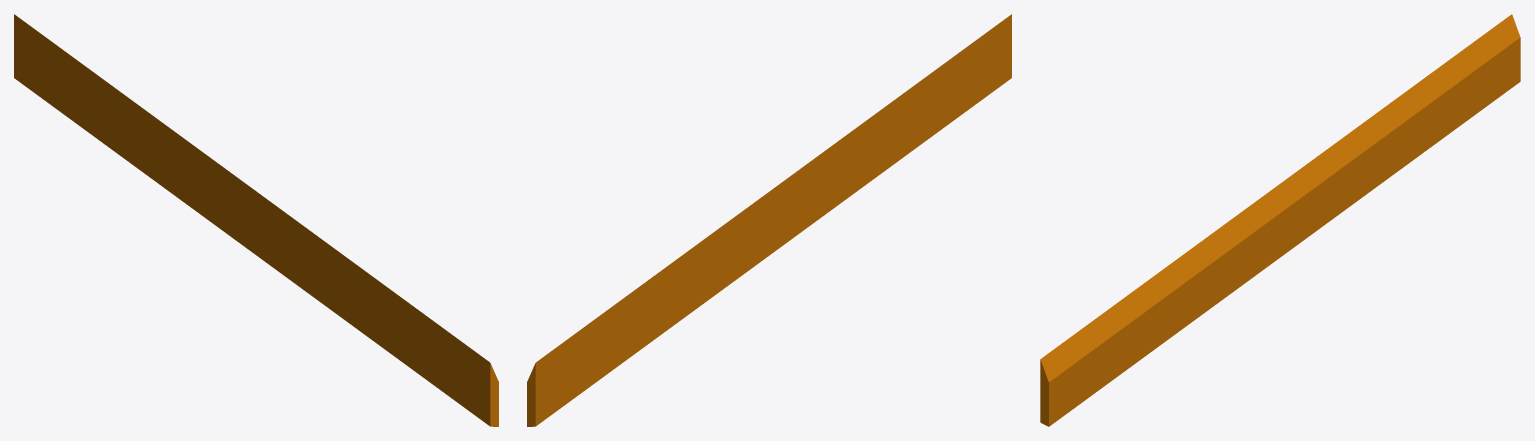
File: simple_example_hole_part_83.obj
3 views of the same model, side by side, from view 1: azimuth 30°, elevation 25°; view 2: azimuth 150°, elevation 25°; view 3: azimuth 330°, elevation 25° (orthographic).
Size of the model in its own units: 0.078 by 0.5784 by 7.52.
